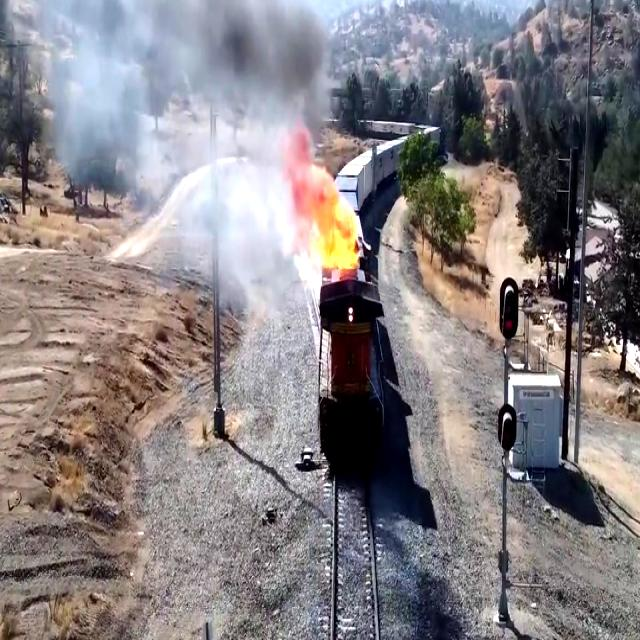fire: (287, 166, 371, 271)
smoke: (183, 0, 320, 102)
